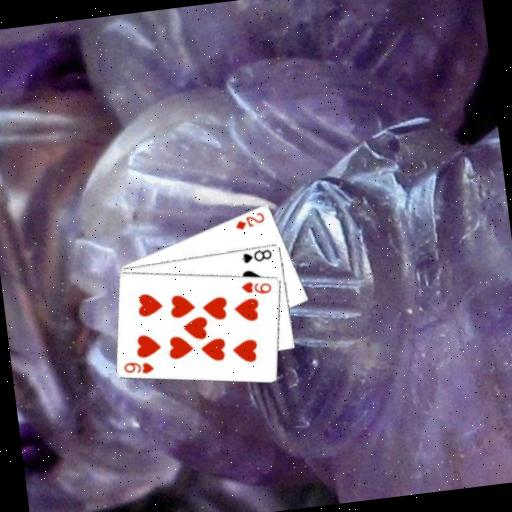2D: (231, 208, 267, 232)
8S: (238, 246, 274, 265)
9H: (237, 276, 274, 298), (121, 356, 157, 378)
